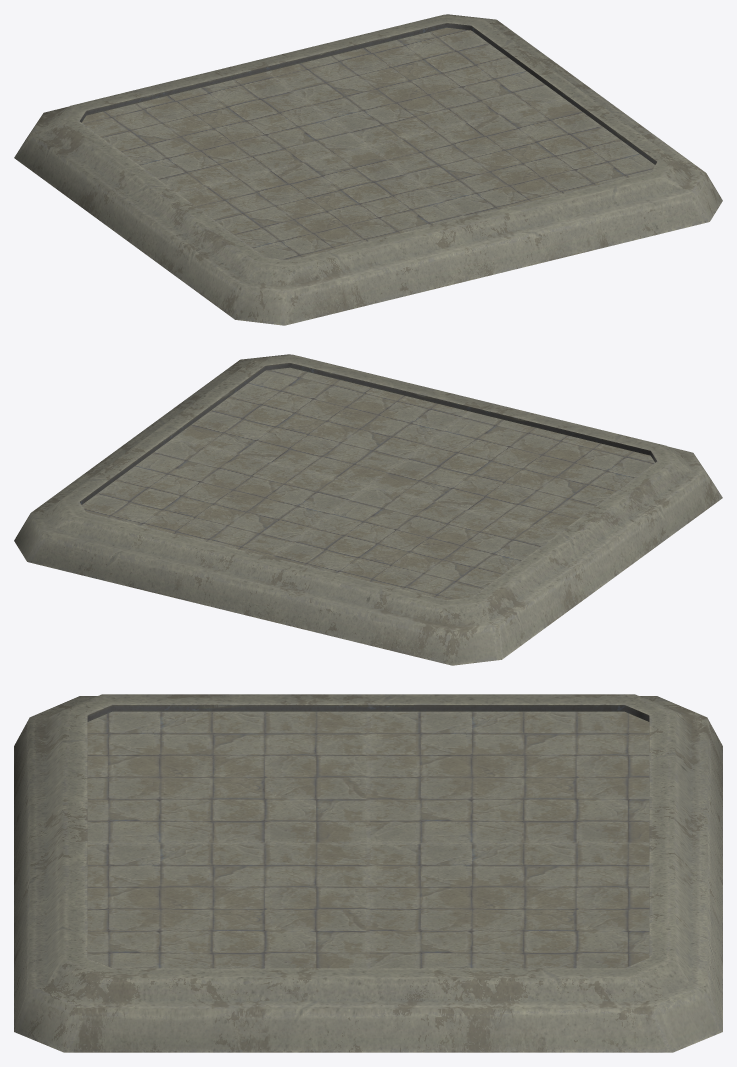
File: AD_RuneGateGround_A_01.fbx
3 renders of one model, top to bottom at view 1: azimuth 30°, elevation 25°; view 2: azimuth 150°, elevation 25°; view 3: azimuth 270°, elevation 25°, orthographic. The views are drawn at different scales.
Visible parts, largest first — view 1: AD_RuneGateGround_A_01; view 2: AD_RuneGateGround_A_01; view 3: AD_RuneGateGround_A_01.
Part boxes in pixels (left/top/right/bottom): AD_RuneGateGround_A_01: left=14, top=14, right=722, bottom=325; AD_RuneGateGround_A_01: left=14, top=354, right=722, bottom=665; AD_RuneGateGround_A_01: left=14, top=694, right=722, bottom=1052.
Bounding box in the file's own units: 1991 × 149 × 1820.
2 materials, 2 textured.
